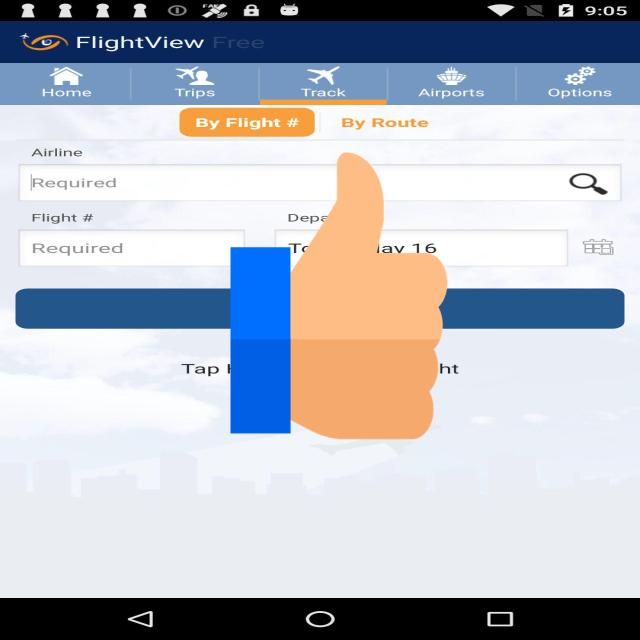privacy zuckering: (230, 146, 448, 447)
